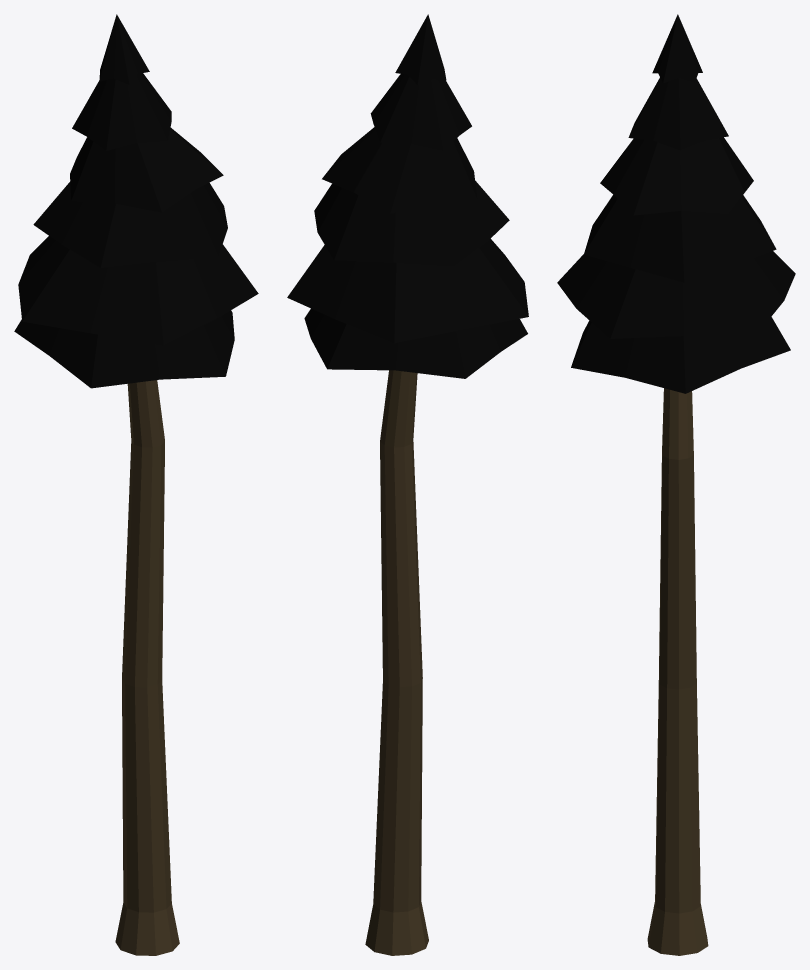
The model's file is tree_tall.fbx.
3 views of the same model, side by side, from view 1: azimuth 30°, elevation 25°; view 2: azimuth 150°, elevation 25°; view 3: azimuth 270°, elevation 25° (orthographic). The views are drawn at different scales.
Parts seen in each view (by area): view 1: tree_tall; view 2: tree_tall; view 3: tree_tall.
Part boxes in pixels (x1=…): tree_tall: x1=14, y1=14, x2=258, y2=955; tree_tall: x1=287, y1=14, x2=528, y2=955; tree_tall: x1=557, y1=14, x2=795, y2=955.
Size of the model in its own units: 291 by 1199 by 284.
